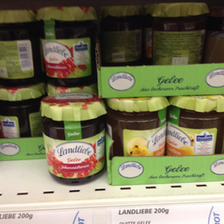jam: (40, 93, 108, 185), (37, 5, 98, 86), (145, 1, 208, 65), (110, 97, 168, 156), (166, 97, 224, 154), (1, 8, 40, 87), (1, 86, 43, 137)
